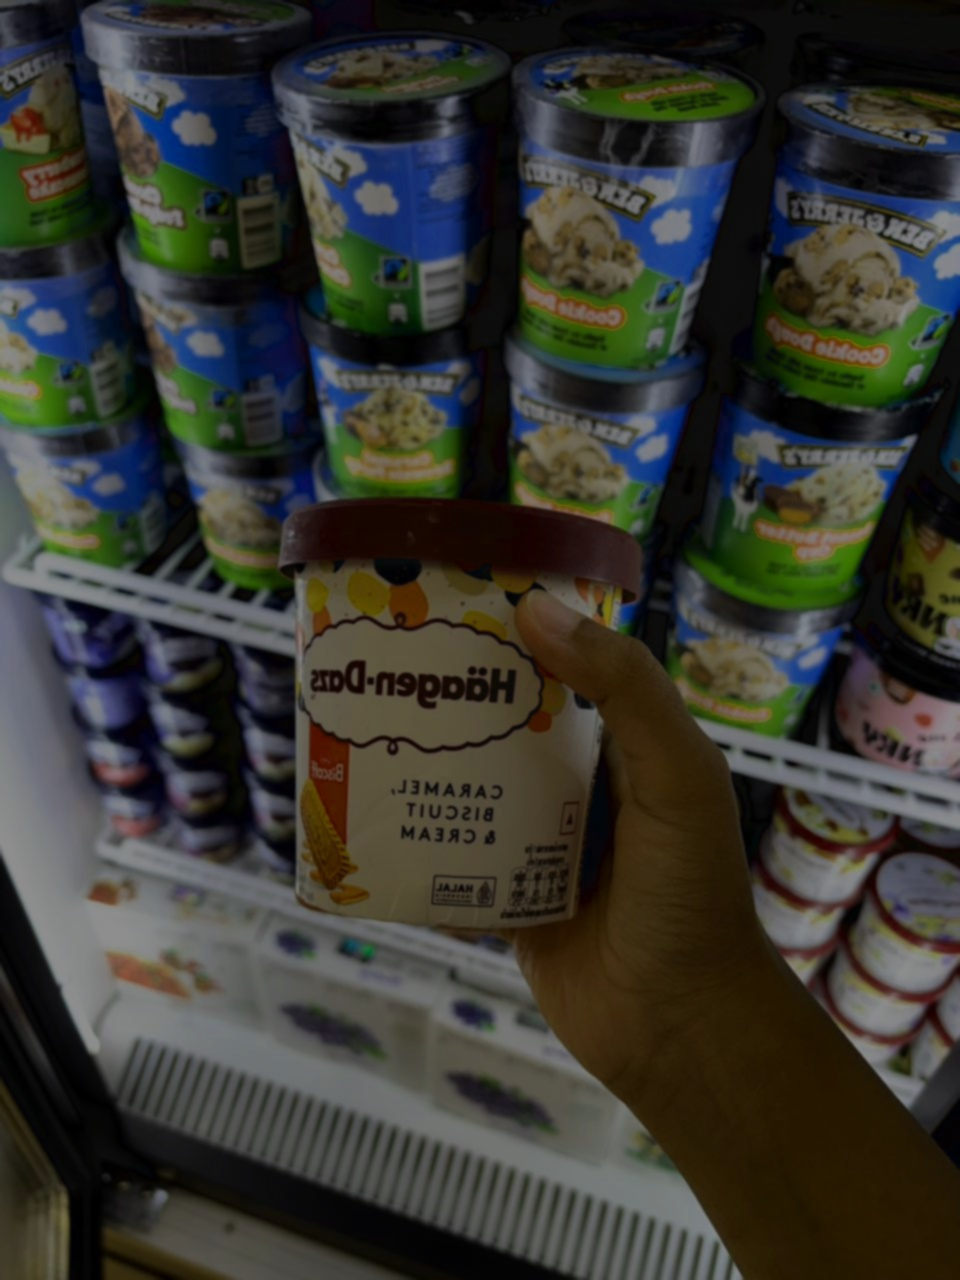Haagen-Dazs IceCream Tub: (238, 489, 662, 950)
